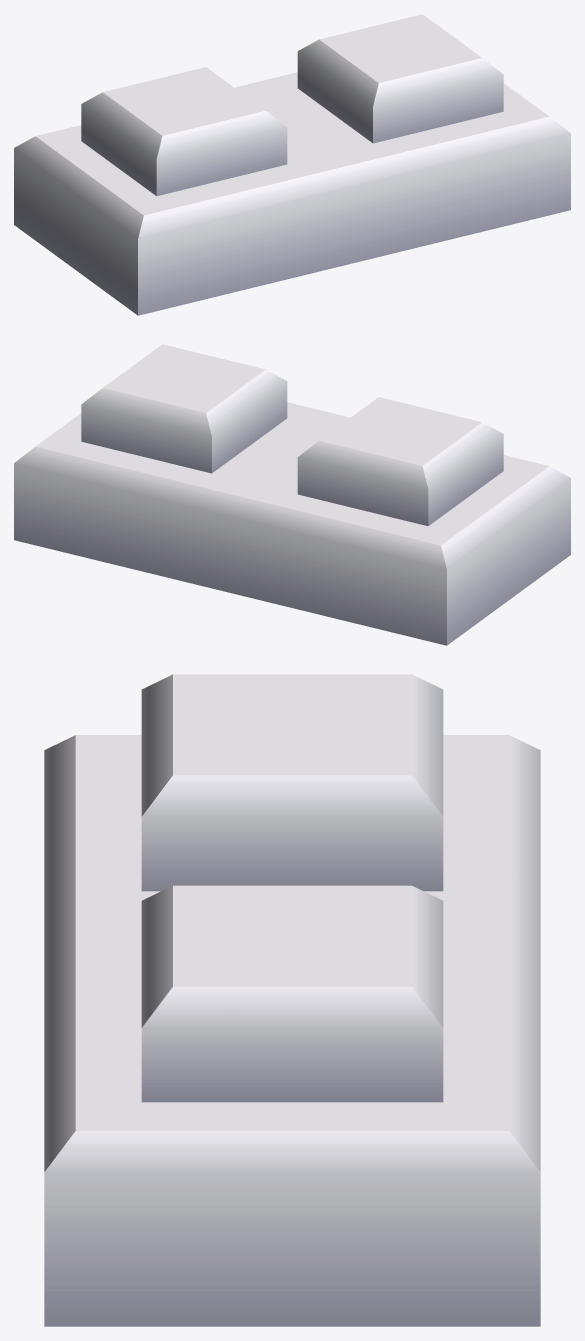
The model's file is square-hq-plate-1x2.glb.
3 renders of one model, top to bottom at view 1: azimuth 30°, elevation 25°; view 2: azimuth 150°, elevation 25°; view 3: azimuth 270°, elevation 25°, orthographic. The views are drawn at different scales.
Parts seen in each view (by area): view 1: square-hq-plate-1x2; view 2: square-hq-plate-1x2; view 3: square-hq-plate-1x2.
Part boxes in pixels (x1,y1,x2,y2): square-hq-plate-1x2: (14,14,570,315); square-hq-plate-1x2: (14,344,570,645); square-hq-plate-1x2: (44,674,540,1326).
Size of the model in its own units: 0.159 by 0.05 by 0.079.
Materials: 1 (1 with a texture image).
